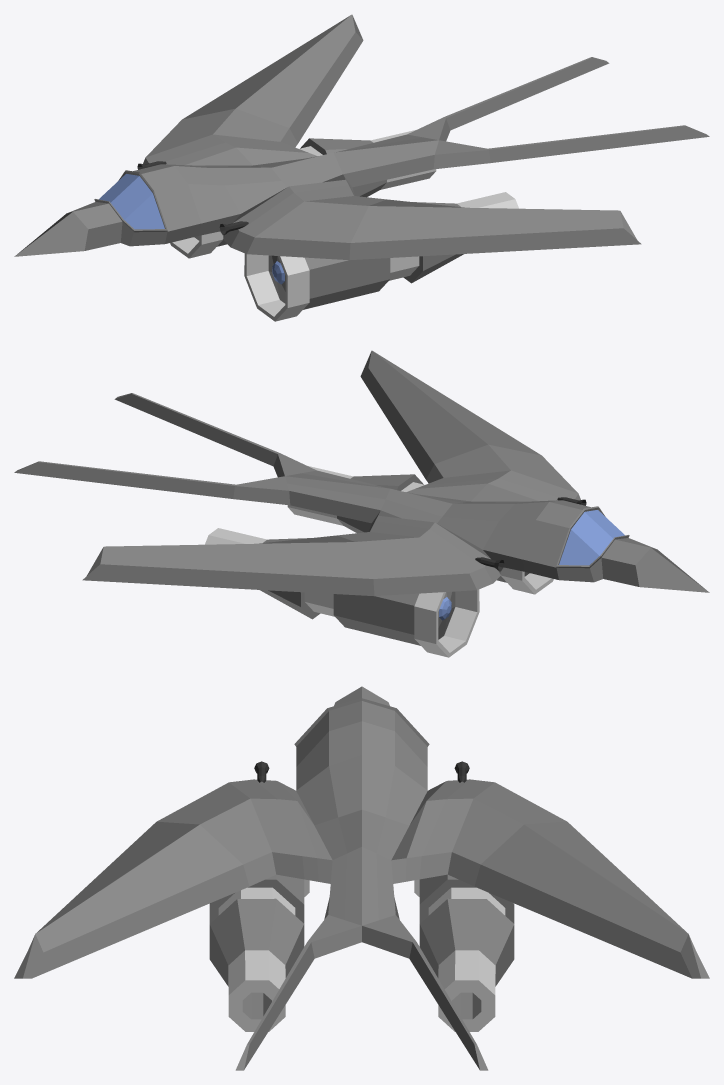
Rendered from Attack_BIrd.fbx.
The picture shows the model from 3 angles, top to bottom: view 1: azimuth 30°, elevation 25°; view 2: azimuth 150°, elevation 25°; view 3: azimuth 270°, elevation 25°; orthographic projection. The views are drawn at different scales.
Visible parts, largest first — view 1: Bird_AttackShip; view 2: Bird_AttackShip; view 3: Bird_AttackShip.
Boxes of the visible parts, bbox=[...] form: Bird_AttackShip: bbox=[14, 14, 709, 321]; Bird_AttackShip: bbox=[14, 350, 709, 657]; Bird_AttackShip: bbox=[14, 686, 709, 1070].
Bounding box in the file's own units: 247 × 48.23 × 190.
